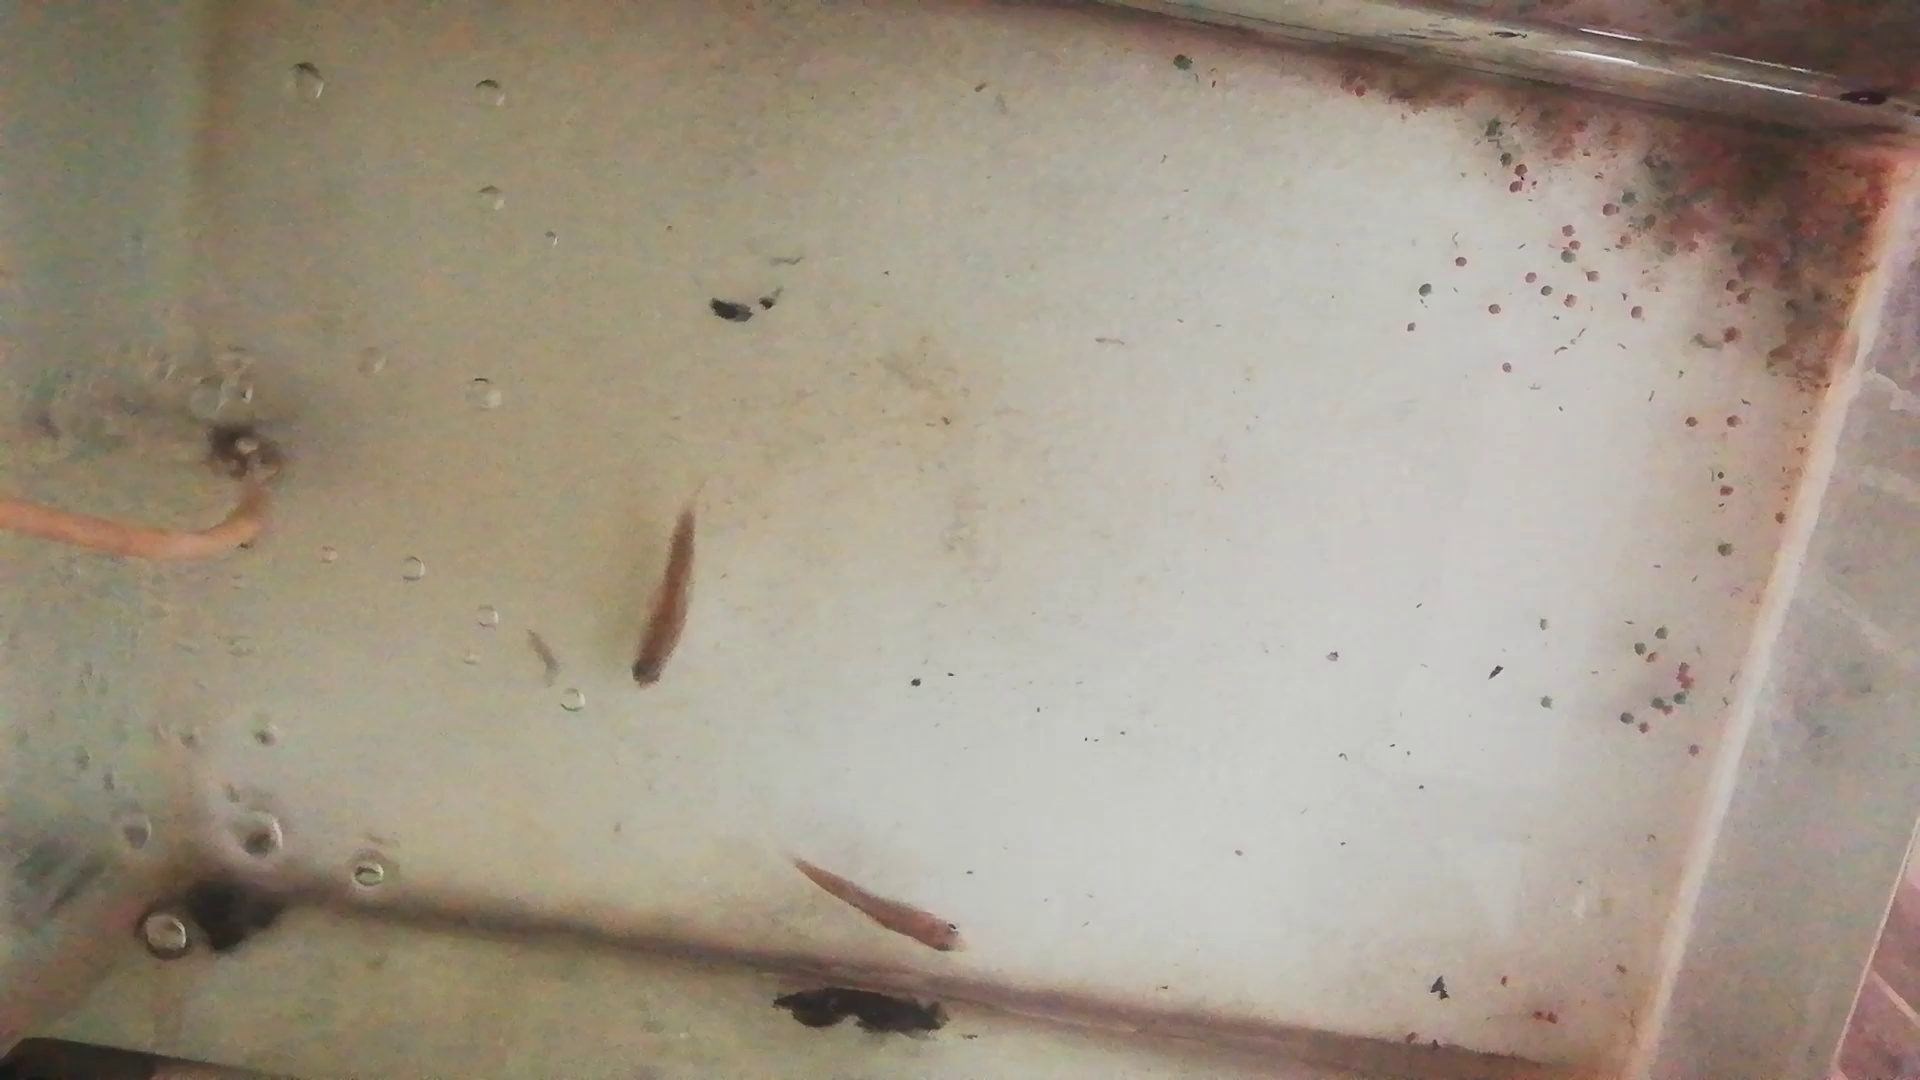fish: (799, 857, 967, 960), (633, 501, 698, 684)
